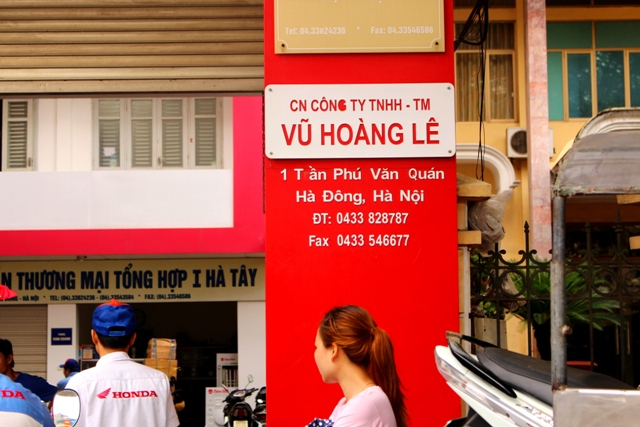banner: (263, 79, 453, 258)
